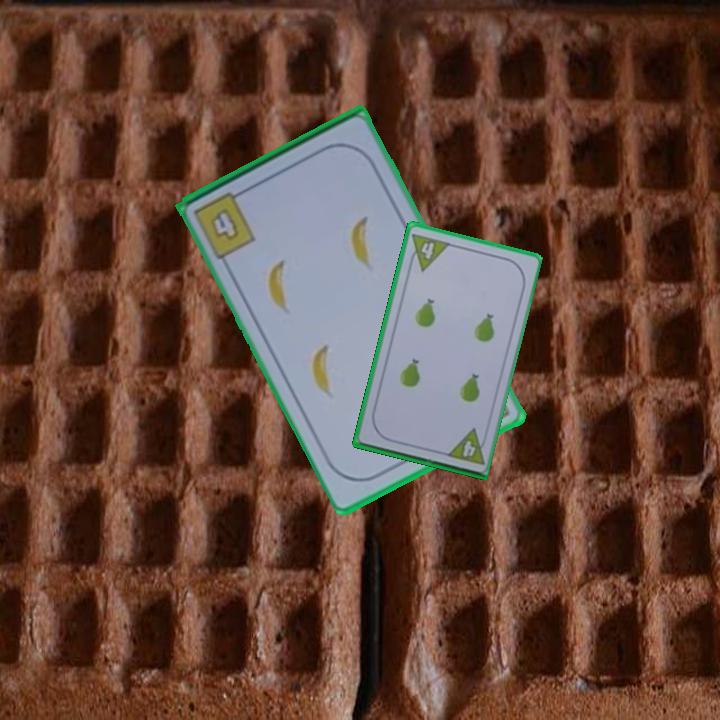4b: (190, 185, 259, 262)
4p: (404, 230, 453, 274), (442, 425, 491, 467)
